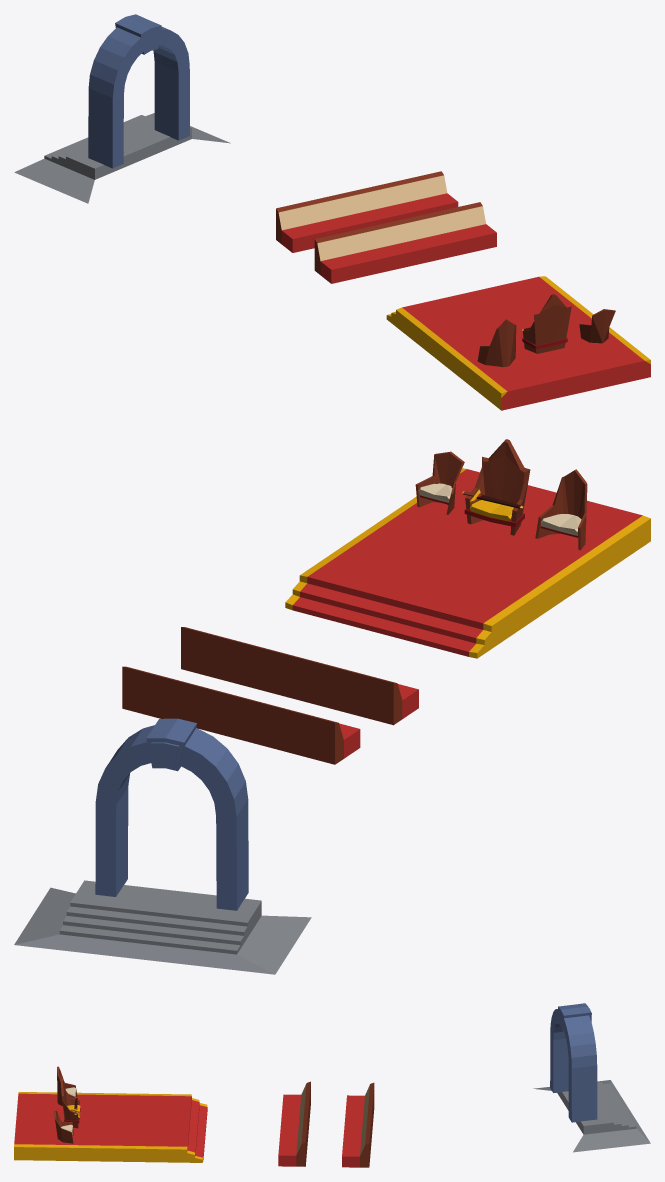
The model's file is newcastle.glb.
The picture shows the model from 3 angles, top to bottom: view 1: azimuth 30°, elevation 25°; view 2: azimuth 150°, elevation 25°; view 3: azimuth 270°, elevation 25°; orthographic projection. The views are drawn at different scales.
Parts seen in each view (by area): view 1: Dais.001, doorway_level0, Bench.001, Bench2.001, Castle.Level1.Steps.001; view 2: Dais.001, Castle.Level1.Steps.001, doorway_level0, Bench.001, Bench2.001; view 3: Dais.001, doorway_level0, Castle.Level1.Steps.001, Bench2.001, Bench.001.
Boxes of the visible parts, x1,y1,x2,y2 form: Dais.001: (386,276,650,410); doorway_level0: (88,14,189,168); Bench.001: (314,202,496,283); Bench2.001: (276,171,458,252); Castle.Level1.Steps.001: (14,113,230,203); Dais.001: (285,439,650,658); Castle.Level1.Steps.001: (14,880,311,974); doorway_level0: (95,718,248,910); Bench.001: (181,627,418,725); Bench2.001: (122,666,360,764); Dais.001: (14,1066,207,1162); doorway_level0: (550,1003,597,1122); Castle.Level1.Steps.001: (533,1080,650,1152); Bench2.001: (342,1082,374,1167); Bench.001: (278,1081,310,1166).
Size of what is drawn, in the model's own units: 11.4 by 5.73 by 30.12.
Materials: 4 (2 with a texture image).
